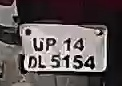1: (63, 37, 74, 53), (61, 53, 71, 68)
4: (72, 36, 86, 53), (83, 55, 97, 72)
5: (50, 54, 61, 69), (73, 55, 83, 71)
D: (27, 56, 38, 70)
L: (37, 53, 48, 70)
P: (45, 37, 57, 53)
U: (32, 37, 44, 53)
